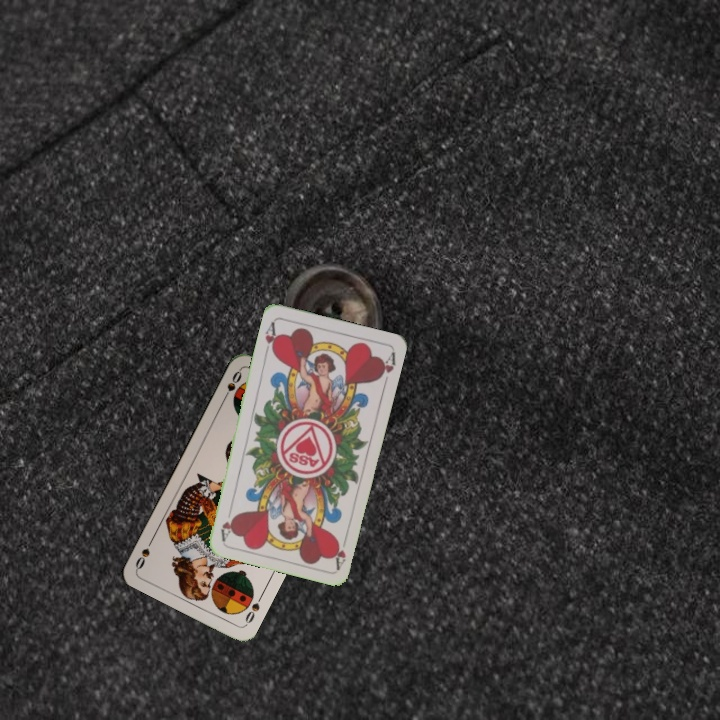HA: (328, 531, 350, 571), (261, 317, 281, 358)
SO: (218, 367, 244, 404), (241, 590, 266, 628)
